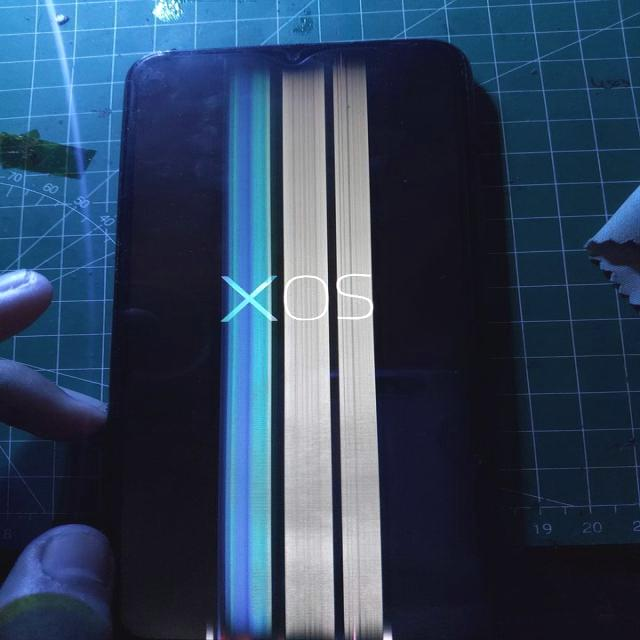phone: (127, 56, 476, 604)
